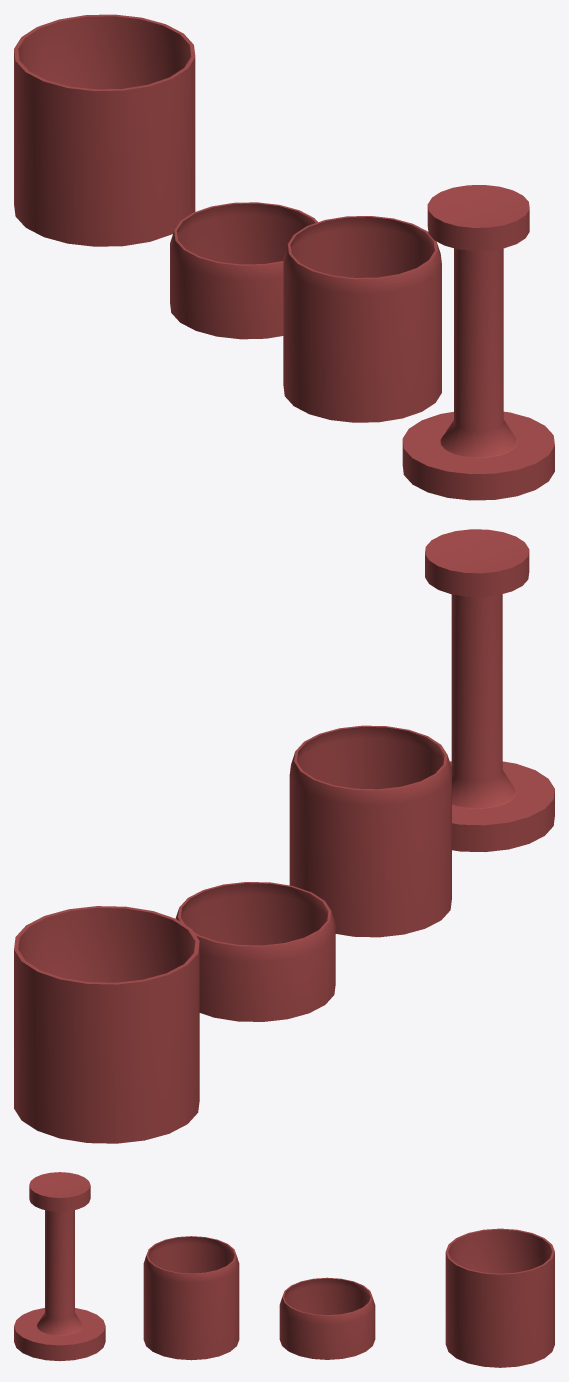
3 views of the same model, one above another, from view 1: azimuth 30°, elevation 25°; view 2: azimuth 150°, elevation 25°; view 3: azimuth 270°, elevation 25° (orthographic). The views are drawn at different scales.
Visible parts, largest first — view 1: M4_low, M2_low, M1_low, M3_low; view 2: M4_low, M2_low, M1_low, M3_low; view 3: M4_low, M2_low, M1_low, M3_low.
Part boxes in pixels (x1,y1,x2,y2): M4_low: (14,14,195,246); M2_low: (283,216,441,422); M1_low: (402,185,554,500); M3_low: (170,202,317,339); M4_low: (14,906,199,1143); M2_low: (289,725,451,937); M1_low: (425,529,554,851); M3_low: (175,882,335,1021); M4_low: (445,1228,554,1367); M2_low: (143,1236,239,1360); M1_low: (14,1172,105,1361); M3_low: (279,1277,375,1359).
Size of the model in its own units: 1.19 by 1.95 by 5.9.
